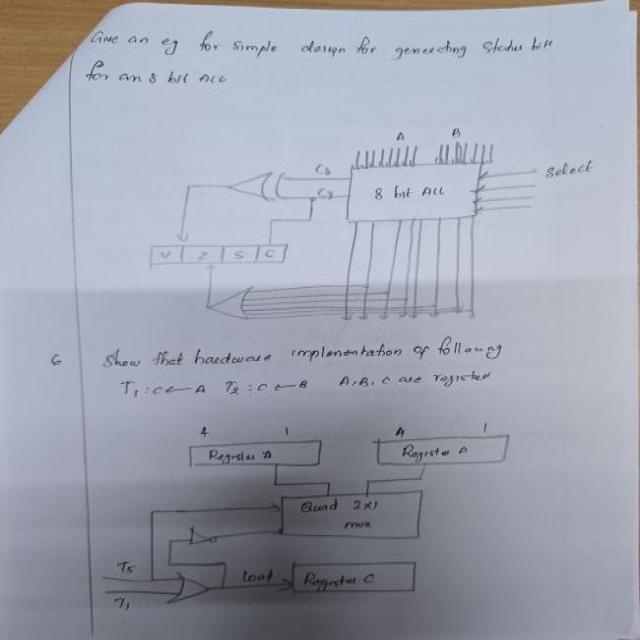Figure Detection - v3 Dataset Version2: (146, 116, 606, 332), (95, 418, 540, 612)
